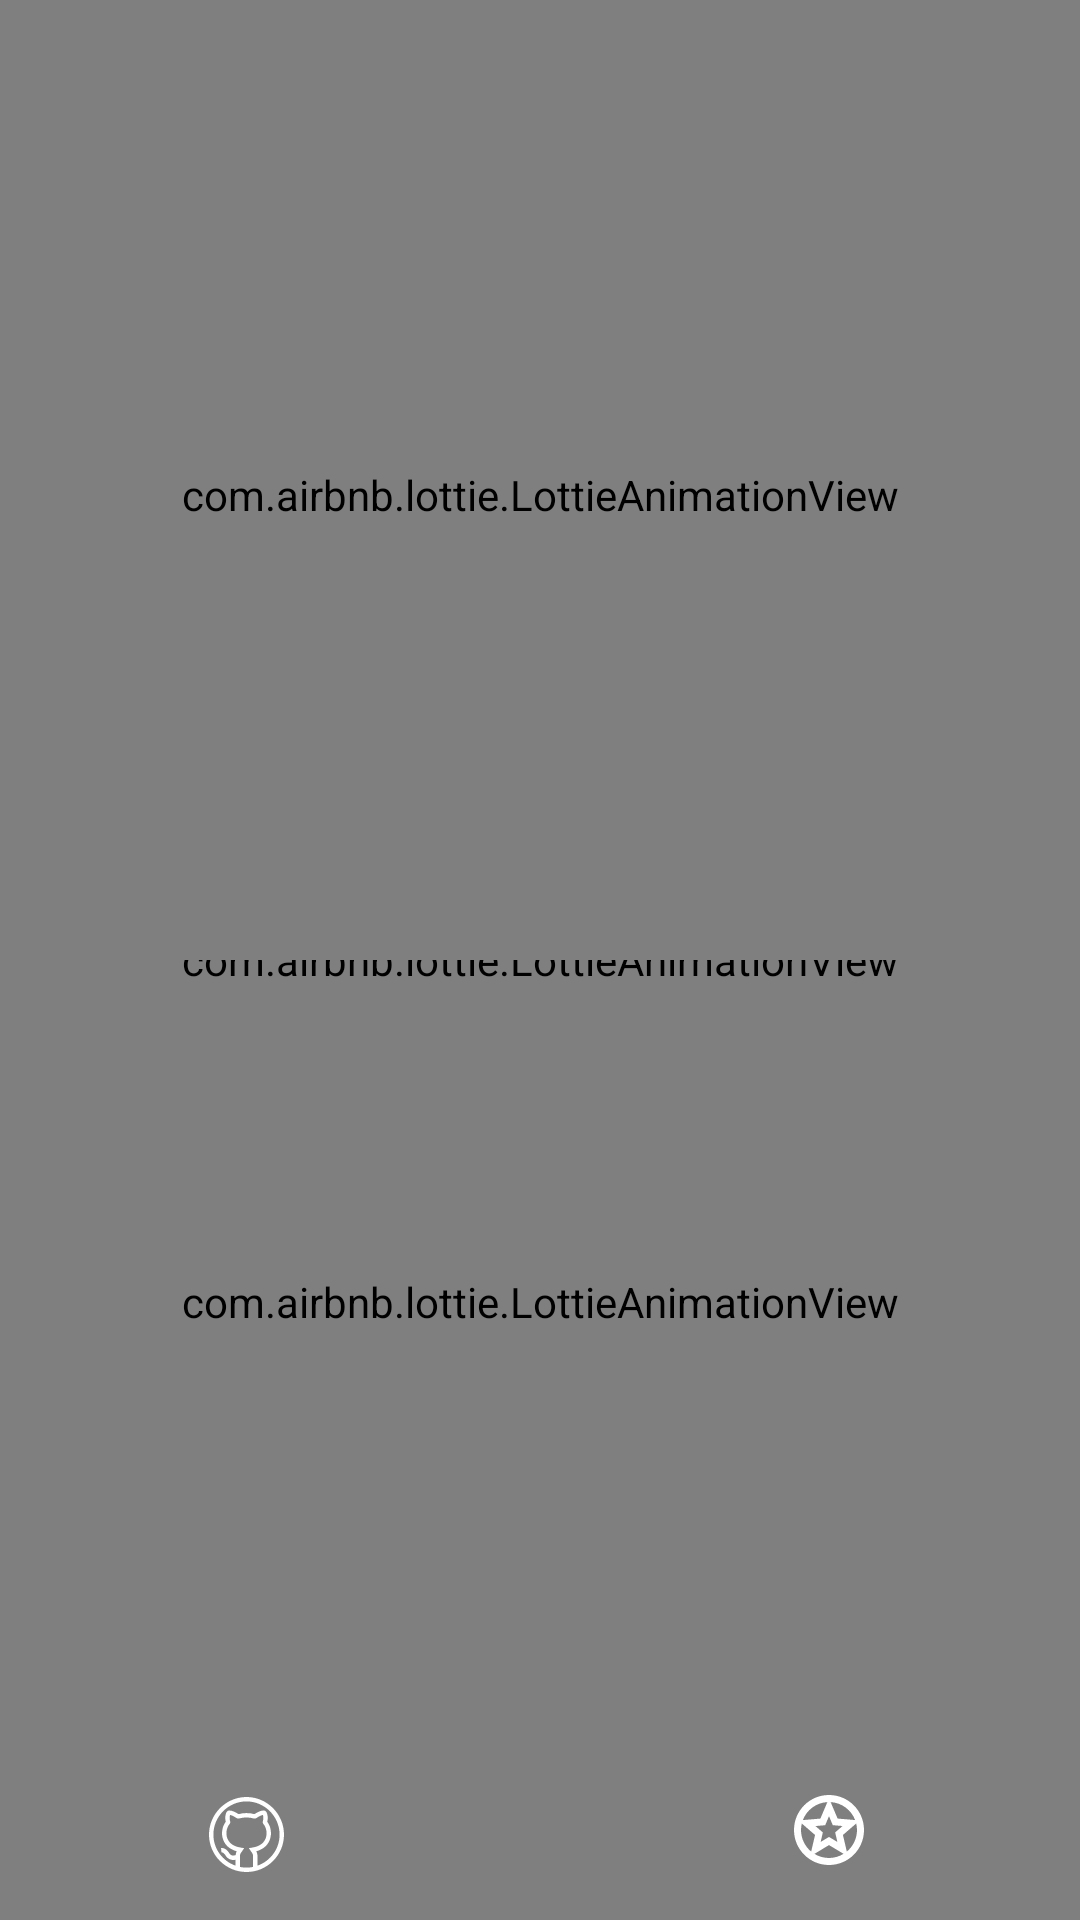

Named icons in this screenshot (1080 x 1920) and their bounding boxes, bbox=[x1, y1, x2, y2]:
stars: bbox=[794, 1795, 864, 1865]
